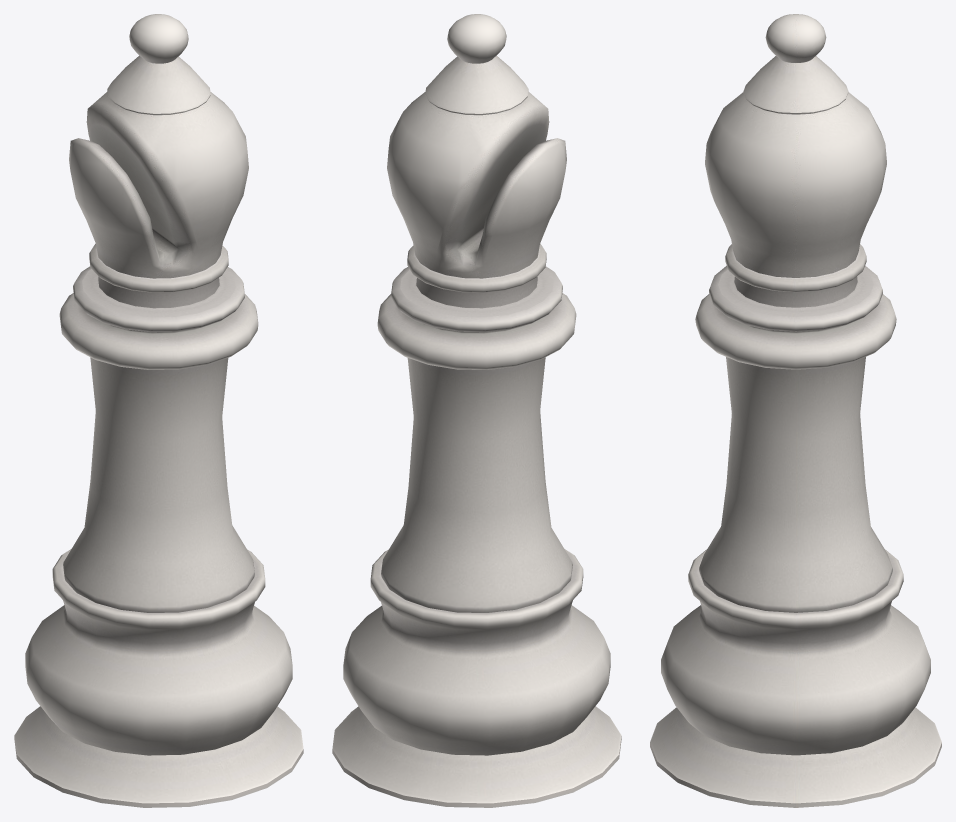
The model's file is White_Bishop.dae.
3 views of the same model, side by side, from view 1: azimuth 30°, elevation 25°; view 2: azimuth 150°, elevation 25°; view 3: azimuth 270°, elevation 25° (orthographic).
Parts seen in each view (by area): view 1: Bishop; view 2: Bishop; view 3: Bishop.
Part boxes in pixels (x1=…): Bishop: x1=14, y1=14, x2=303, y2=807; Bishop: x1=332, y1=14, x2=621, y2=807; Bishop: x1=650, y1=14, x2=941, y2=807.
Bounding box in the file's own units: 1.49 × 4.15 × 1.51.
